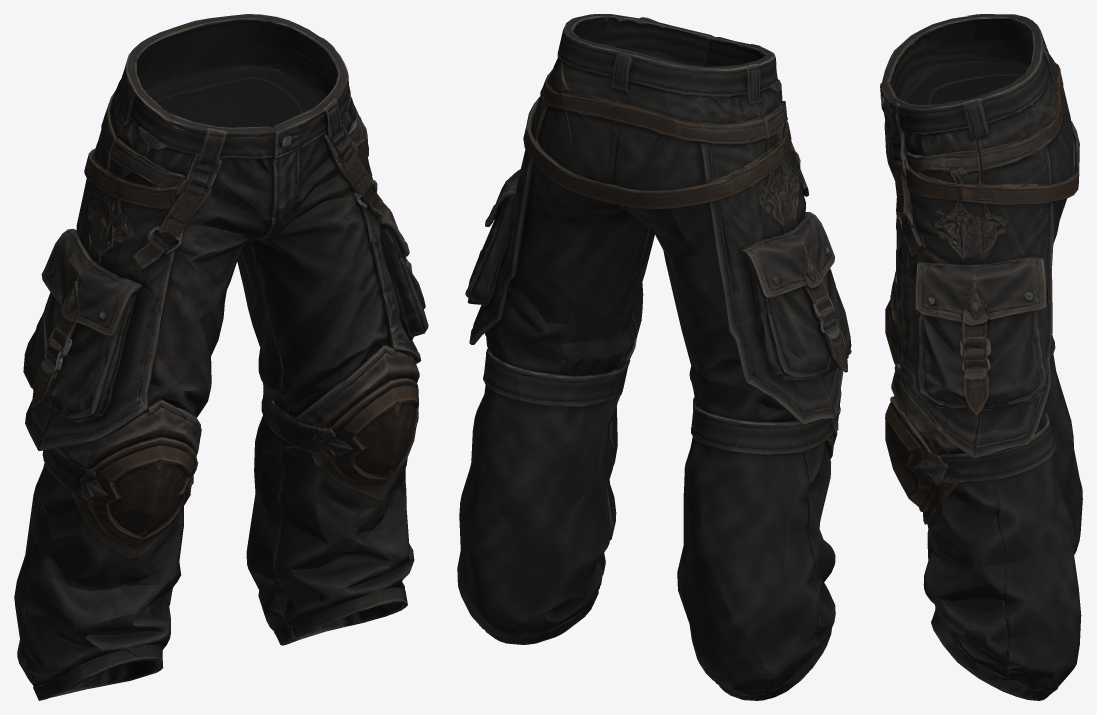
The model's file is pants_02.glb.
The picture shows the model from 3 angles, left to right: view 1: azimuth 30°, elevation 25°; view 2: azimuth 150°, elevation 25°; view 3: azimuth 270°, elevation 25°; orthographic projection. The views are drawn at different scales.
Parts seen in each view (by area): view 1: mesh_node; view 2: mesh_node; view 3: mesh_node.
Part boxes in pixels (<box>): mesh_node: <box>14,14,428,700</box>; mesh_node: <box>457,14,851,700</box>; mesh_node: <box>880,14,1082,700</box>.
Size of the model in its own units: 1.21 by 1.9 by 0.5881.
1 material, 1 textured.
